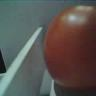tomato: (45, 5, 96, 96)
